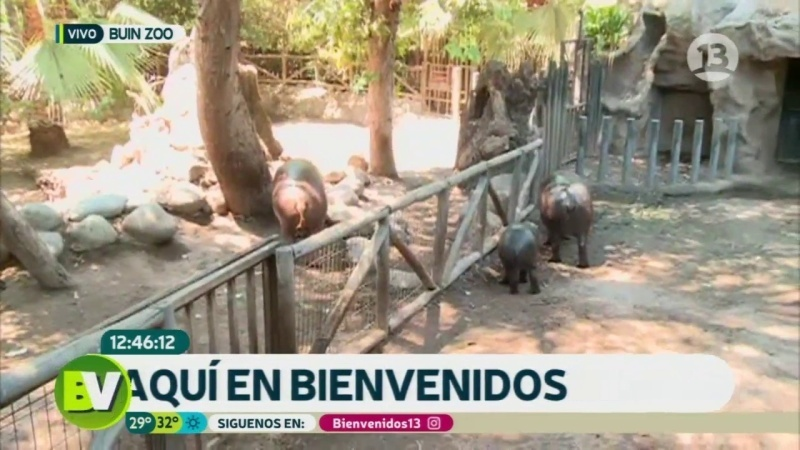hipopotamo: (532, 163, 618, 280), (260, 148, 336, 261), (485, 211, 556, 306)
